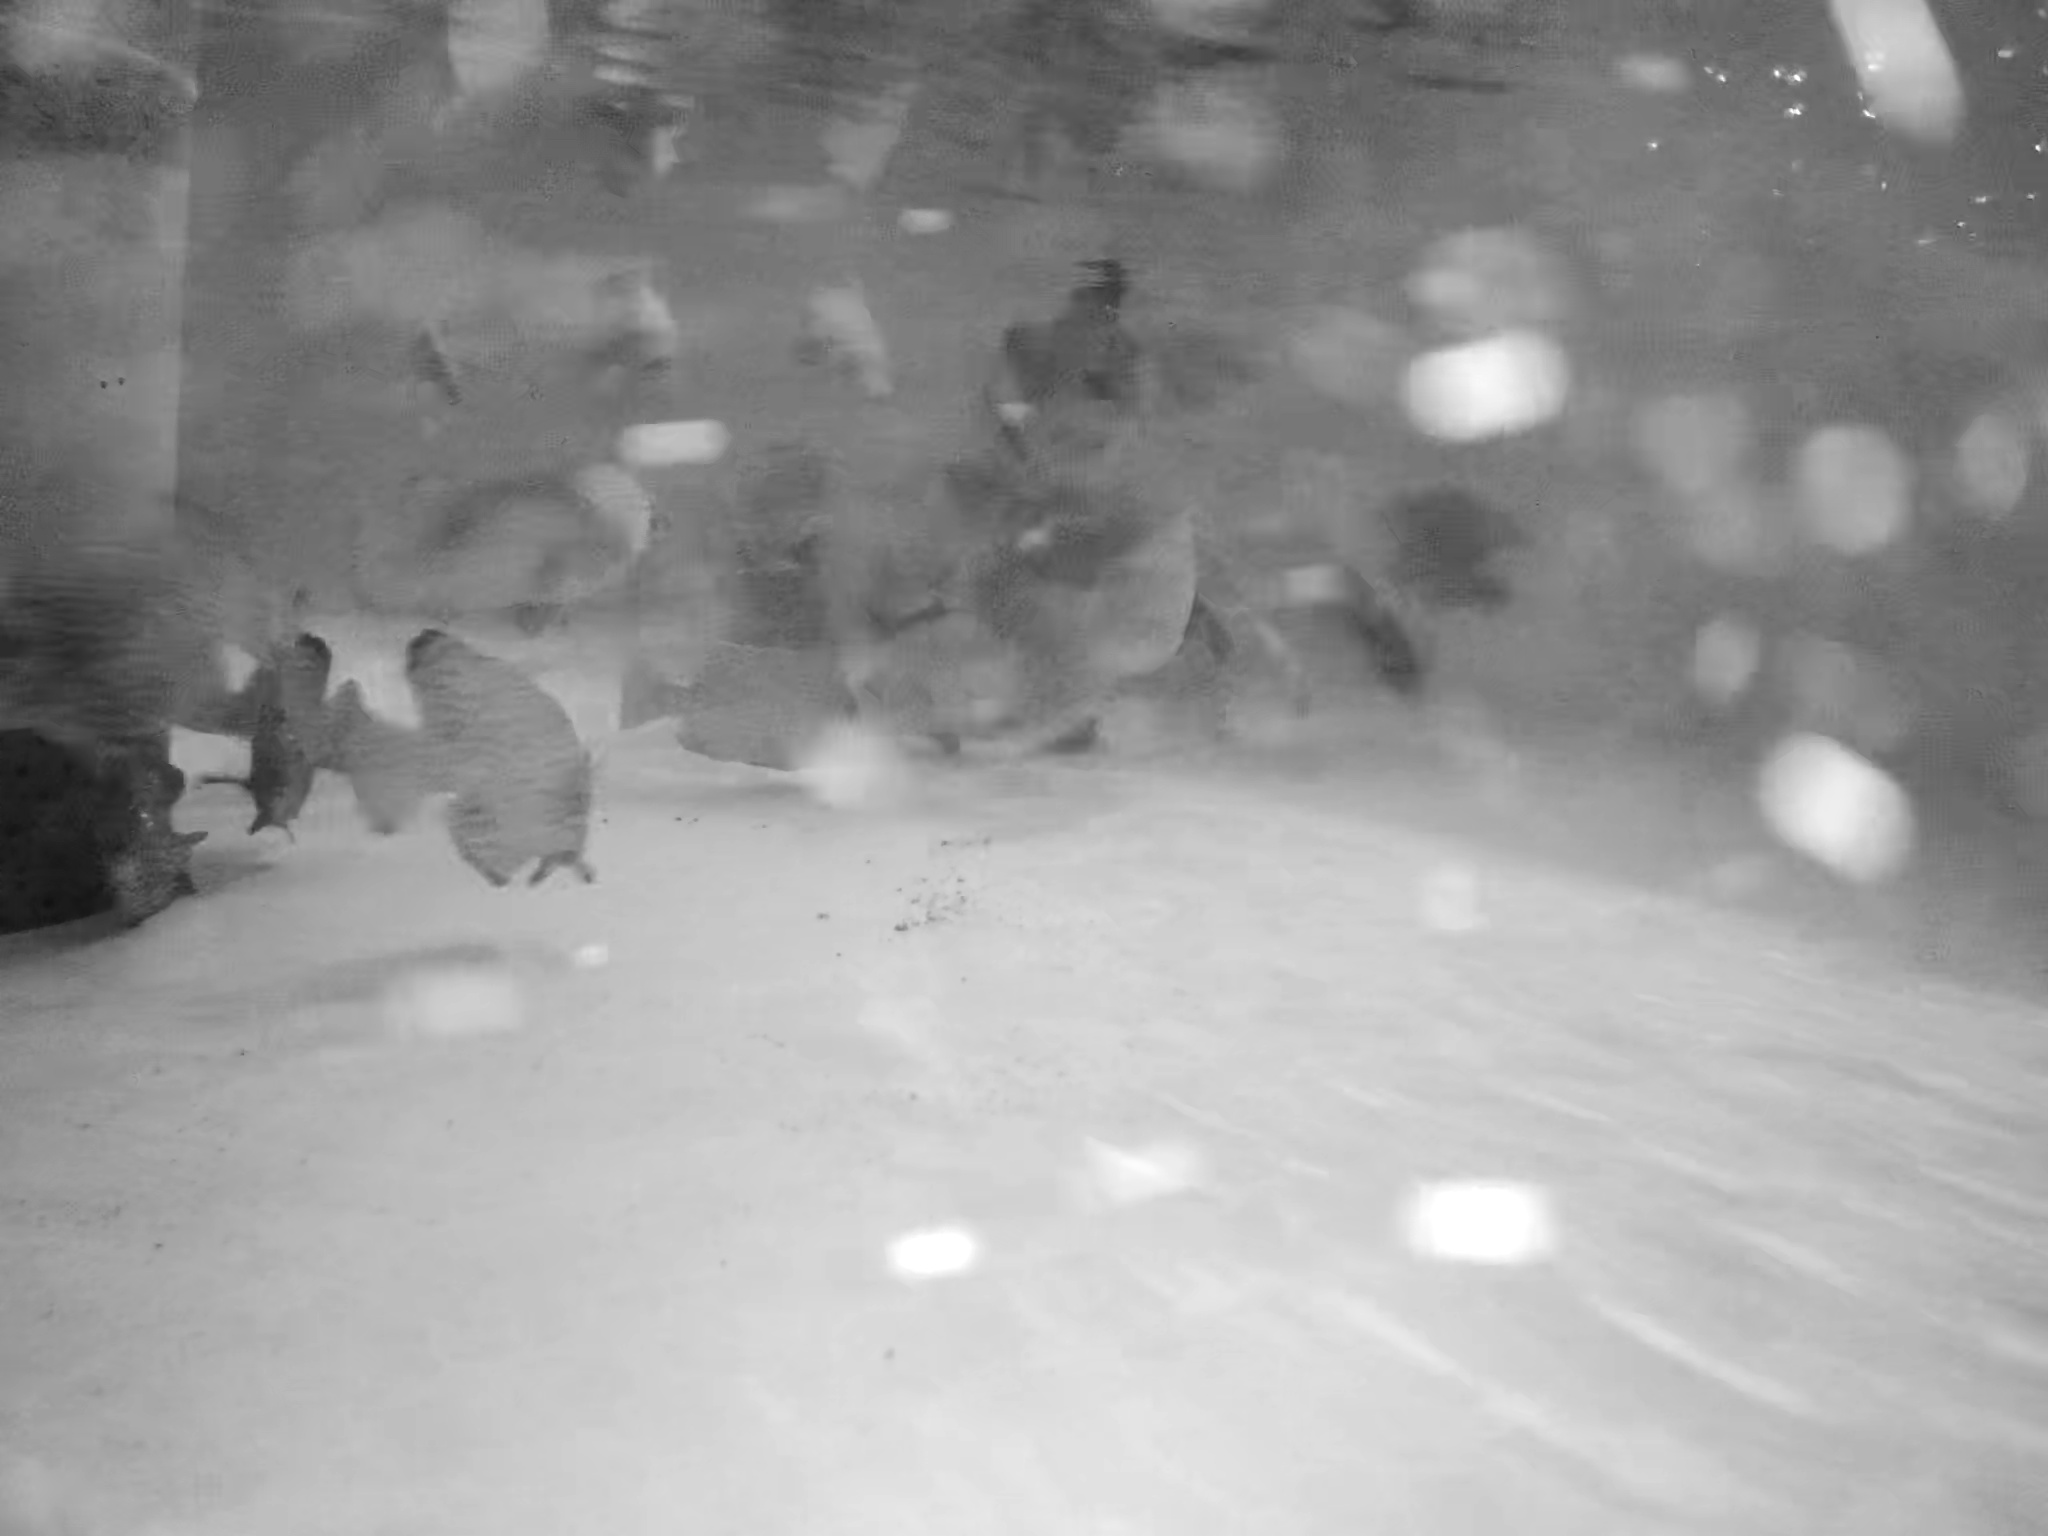fish: (355, 600, 663, 892), (629, 595, 892, 836), (979, 524, 1271, 728), (210, 645, 406, 873), (1108, 578, 1345, 766), (2, 724, 211, 933), (411, 470, 664, 637)
